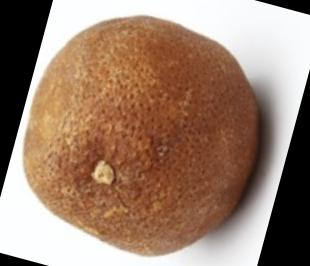Orange Rotten: (24, 7, 270, 258)
